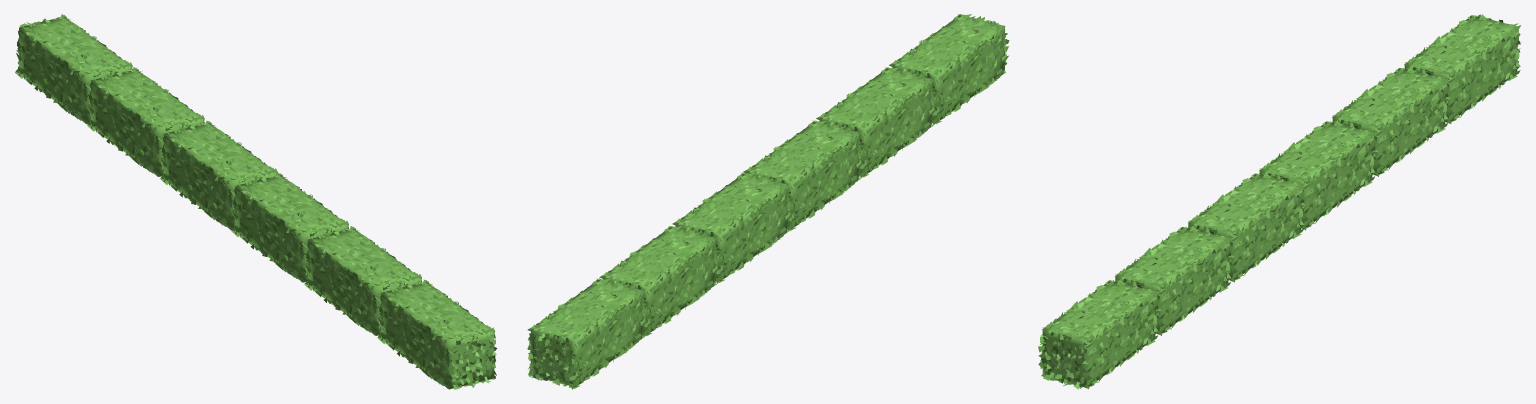
Rendered from BUSH16.fbx.
3 views of the same model, side by side, from view 1: azimuth 30°, elevation 25°; view 2: azimuth 150°, elevation 25°; view 3: azimuth 330°, elevation 25° (orthographic).
Parts seen in each view (by area): view 1: Cube.511; view 2: Cube.511; view 3: Cube.511.
Part boxes in pixels (x1=…): Cube.511: x1=15, y1=14, x2=497, y2=389; Cube.511: x1=526, y1=14, x2=1009, y2=389; Cube.511: x1=1038, y1=14, x2=1521, y2=389.
Bounding box in the file's own units: 1302 × 1295 × 19587.
